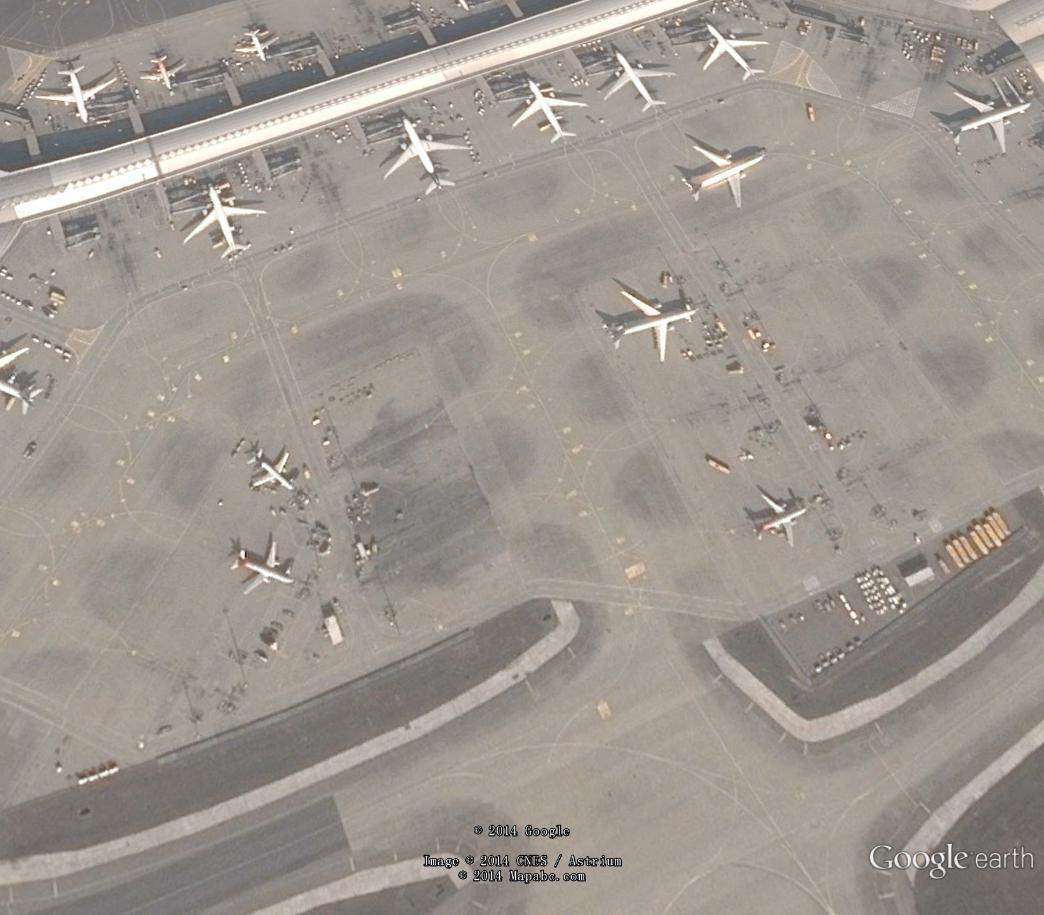aircraft: (378, 109, 468, 202), (598, 286, 702, 364), (675, 129, 772, 211), (181, 181, 271, 264), (937, 85, 1033, 160), (508, 76, 594, 147), (33, 63, 123, 130), (603, 48, 682, 118), (702, 18, 774, 91), (223, 538, 304, 598), (741, 484, 813, 550), (3, 340, 57, 418), (235, 448, 306, 496), (139, 49, 198, 99), (229, 22, 288, 66)
